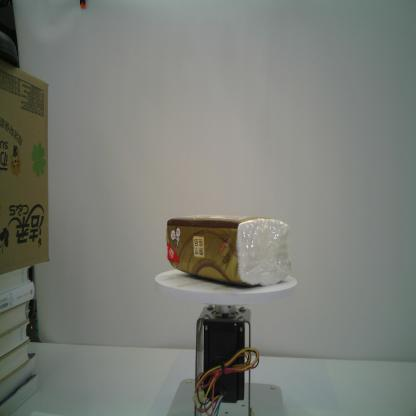Tissue: (166, 214, 292, 289)
